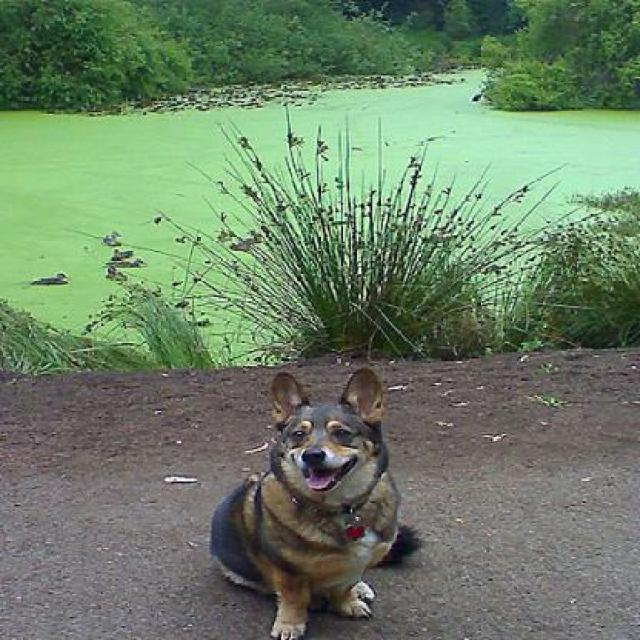Dog: (198, 368, 408, 638)
